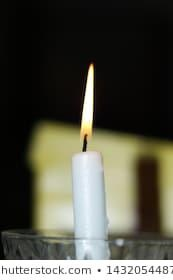fire: (78, 59, 95, 145)
